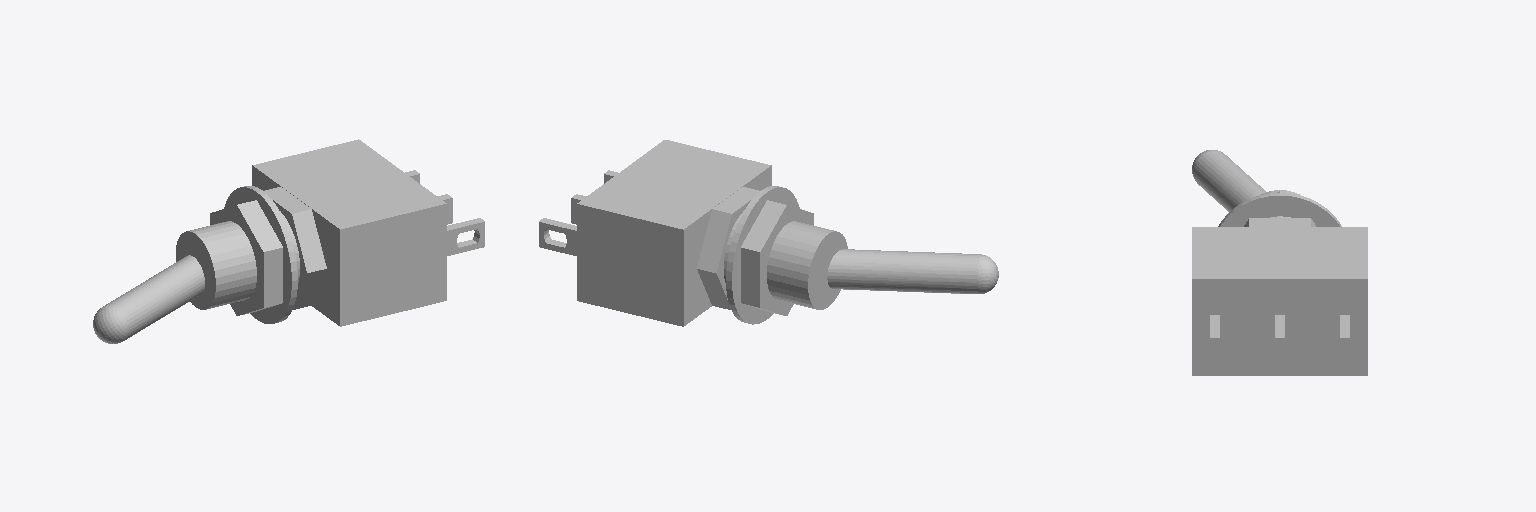
The model's file is Small Toggle Switch.obj.
3 renders of one model, left to right at view 1: azimuth 30°, elevation 25°; view 2: azimuth 150°, elevation 25°; view 3: azimuth 270°, elevation 25°, orthographic.
Parts seen in each view (by area): view 1: Solid3, Solid2; view 2: Solid3, Solid2; view 3: Solid3, Solid2.
Boxes of the visible parts, x1=… form: Solid3: x1=176, y1=139, x2=484, y2=326; Solid2: x1=93, y1=255, x2=204, y2=343; Solid3: x1=539, y1=140, x2=847, y2=326; Solid2: x1=827, y1=249, x2=998, y2=293; Solid3: x1=1192, y1=190, x2=1367, y2=375; Solid2: x1=1192, y1=150, x2=1265, y2=211.
Size of the model in its own units: 1.28 by 0.4 by 0.5007.